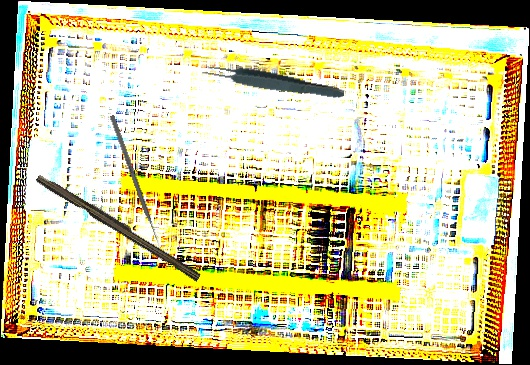Pusher: (109, 114, 163, 251)
Scalpel Handle: (33, 171, 205, 282)
Tissue Forceps: (201, 59, 346, 104)
